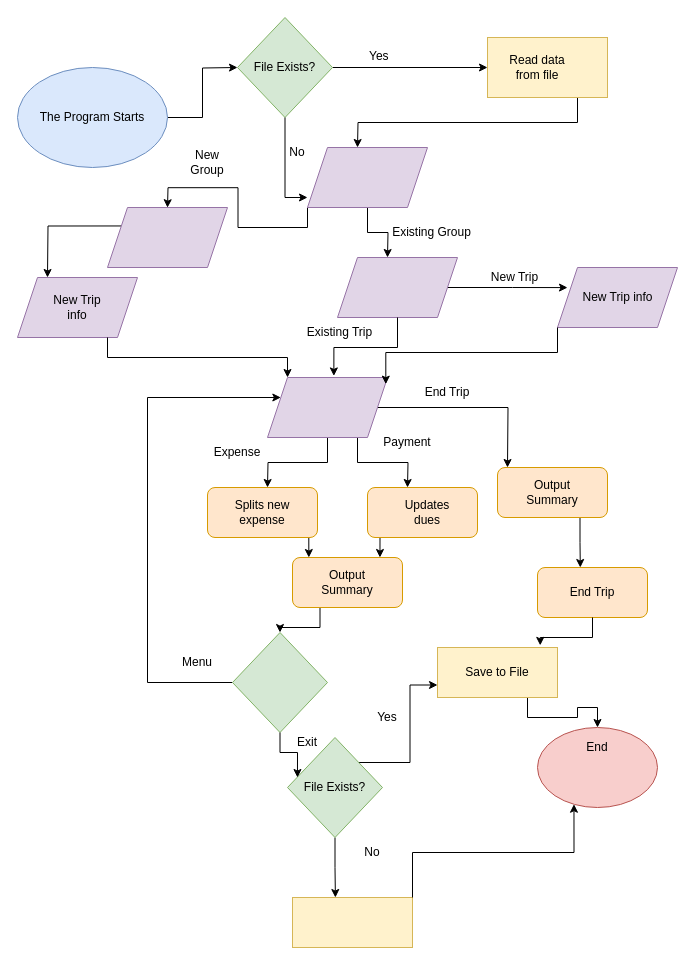
Image size: 695x965. Some labels were removed from this diagram. Each missing label, with the box of its shape:
Create a new file: (292, 896, 412, 948)
Group Menu: (306, 146, 428, 208)
Menu or Exit: (232, 632, 328, 732)
New Group details: (106, 206, 228, 268)
Options Menu: (266, 376, 388, 438)
Pick Trip: (336, 256, 458, 318)
